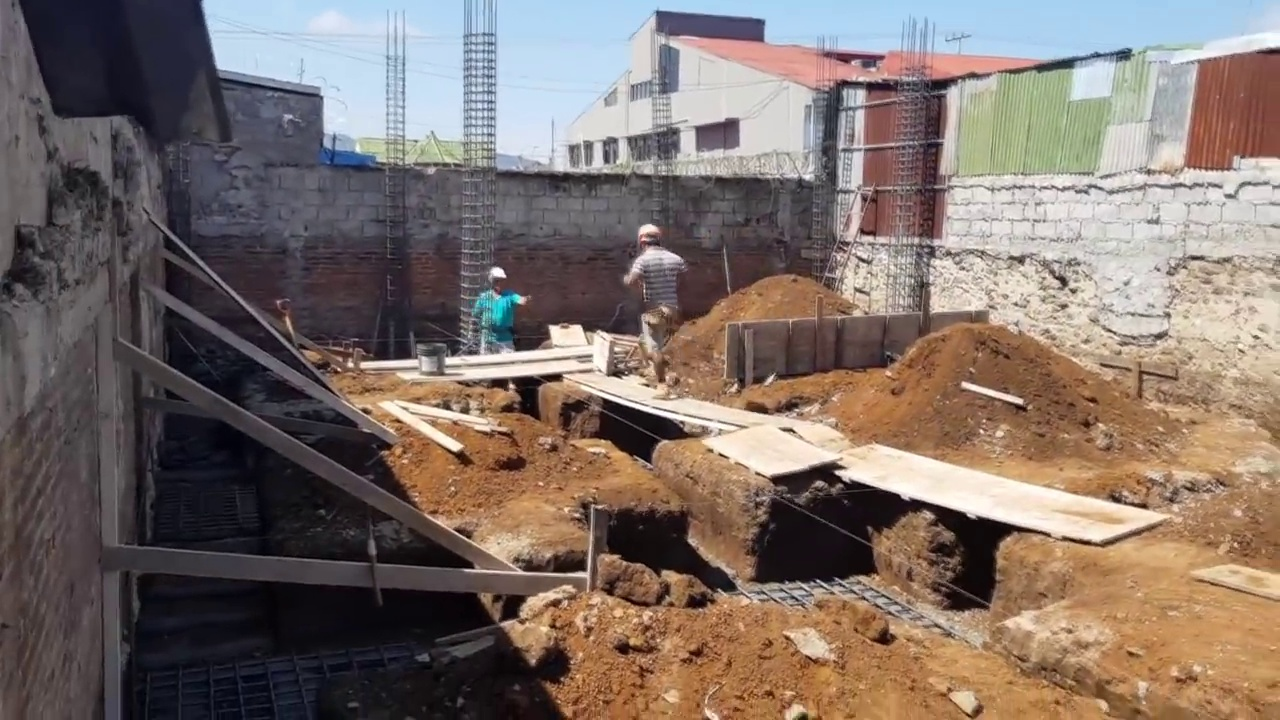helmet: (636, 223, 662, 246), (487, 267, 505, 280)
helmet-on: (635, 221, 667, 253), (488, 267, 511, 295)
person: (622, 220, 690, 370), (462, 264, 525, 357)
